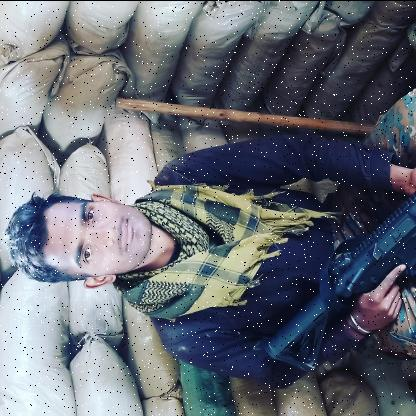rifle: (262, 188, 416, 374)
